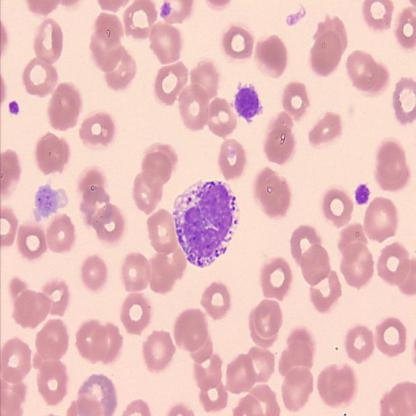Basophil: (172, 176, 243, 269), (230, 80, 266, 129)
